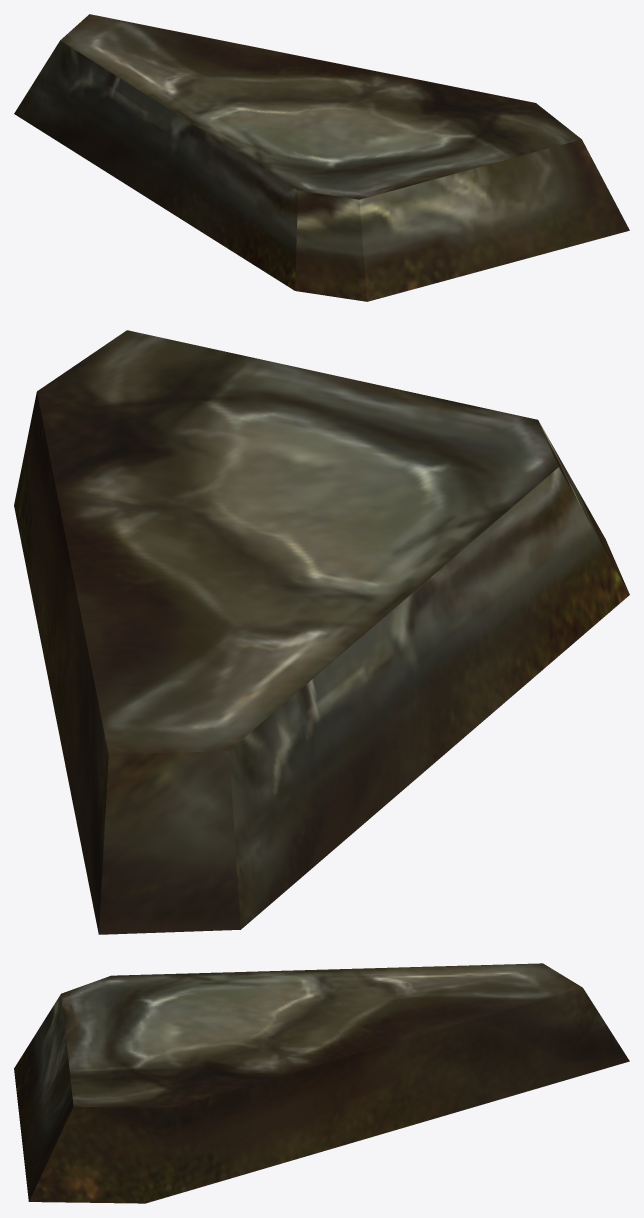
File: C_dizhuan011.fbx
The picture shows the model from 3 angles, top to bottom: view 1: azimuth 30°, elevation 25°; view 2: azimuth 150°, elevation 25°; view 3: azimuth 270°, elevation 25°; orthographic projection. The views are drawn at different scales.
Visible parts, largest first — view 1: C_dizhuan011; view 2: C_dizhuan011; view 3: C_dizhuan011.
Part boxes in pixels (left/top/right/bottom): C_dizhuan011: left=14, top=14, right=629, bottom=301; C_dizhuan011: left=14, top=330, right=629, bottom=934; C_dizhuan011: left=14, top=963, right=629, bottom=1203.
Bounding box in the file's own units: 112 × 25.19 × 171.
